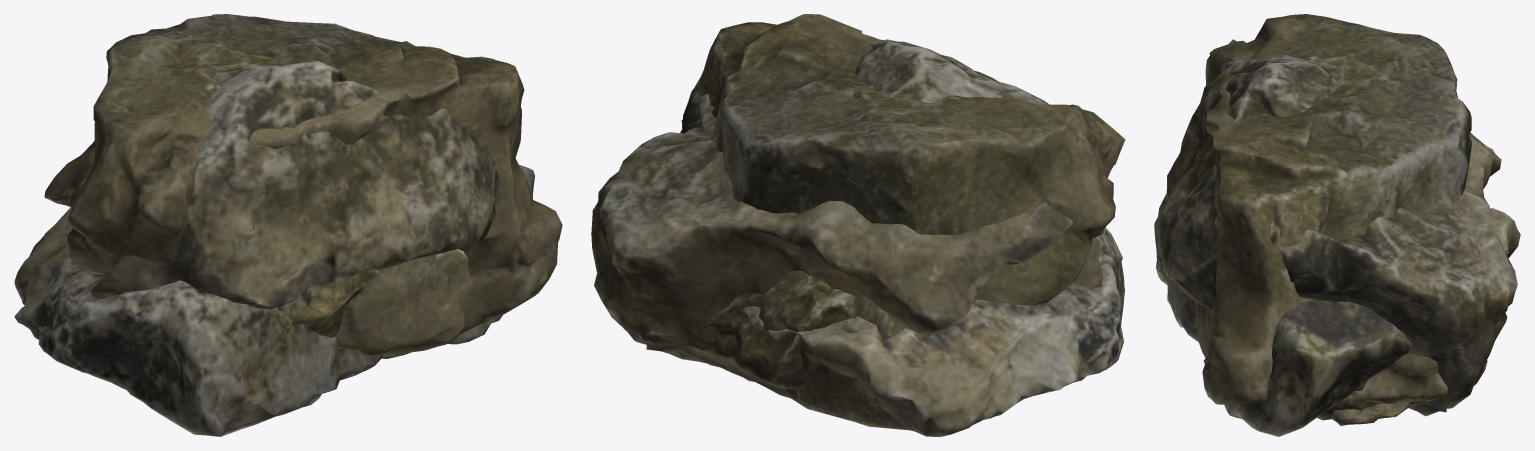
Rendered from rock_moss_set_02.fbx.
3 views of the same model, side by side, from view 1: azimuth 30°, elevation 25°; view 2: azimuth 150°, elevation 25°; view 3: azimuth 270°, elevation 25° (orthographic). The views are drawn at different scales.
Visible parts, largest first — view 1: rock_moss_set_02_rock13.001, rock_moss_set_02_rock11.001, rock_moss_set_02_rock10.001, rock_moss_set_02_rock07.001, rock_moss_set_02_rock12.001; view 2: rock_moss_set_02_rock13.001, rock_moss_set_02_rock11.001, rock_moss_set_02_rock10.001, rock_moss_set_02_rock12.001, rock_moss_set_02_rock07.001; view 3: rock_moss_set_02_rock13.001, rock_moss_set_02_rock11.001, rock_moss_set_02_rock10.001, rock_moss_set_02_rock07.001, rock_moss_set_02_rock09.001, rock_moss_set_02_rock12.001.
Part boxes in pixels (<box>): rock_moss_set_02_rock13.001: <box>67,14,562,358</box>; rock_moss_set_02_rock11.001: <box>44,61,521,310</box>; rock_moss_set_02_rock10.001: <box>14,165,534,436</box>; rock_moss_set_02_rock07.001: <box>329,249,469,356</box>; rock_moss_set_02_rock12.001: <box>181,269,379,376</box>; rock_moss_set_02_rock13.001: <box>695,14,1125,305</box>; rock_moss_set_02_rock11.001: <box>591,39,1103,363</box>; rock_moss_set_02_rock10.001: <box>741,227,1124,436</box>; rock_moss_set_02_rock12.001: <box>638,272,857,389</box>; rock_moss_set_02_rock07.001: <box>675,270,914,403</box>; rock_moss_set_02_rock13.001: <box>1202,14,1471,404</box>; rock_moss_set_02_rock11.001: <box>1156,55,1517,416</box>; rock_moss_set_02_rock10.001: <box>1154,193,1520,436</box>; rock_moss_set_02_rock07.001: <box>1194,300,1447,404</box>; rock_moss_set_02_rock09.001: <box>1331,400,1411,425</box>; rock_moss_set_02_rock12.001: <box>1317,360,1487,420</box>.
Size of the model in its own units: 2.2 by 1.31 by 1.55.
Materials: 1 (1 with a texture image).
